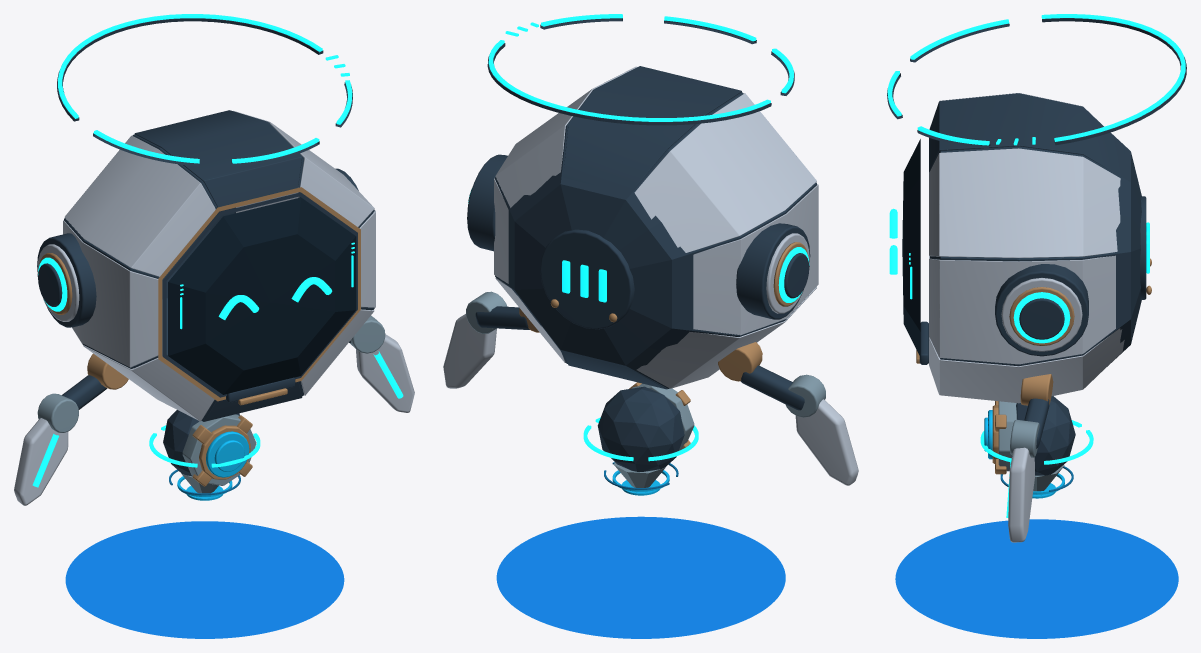
Rendered from LaboratoryAI_v7_Base.fbx.
3 renders of one model, left to right at view 1: azimuth 30°, elevation 25°; view 2: azimuth 150°, elevation 25°; view 3: azimuth 270°, elevation 25°, orthographic. The views are drawn at different scales.
Parts seen in each view (by area): view 1: Recessed octagonal faceted visor, Soft blue hover footprint, Helmet armor panel 02, Helmet armor panel 01, Helmet armor panel 03, Helmet armor panel 04, Helmet armor panel 00, Ceramic hand paddle -1, Segmented copper inner gasket, Ceramic hand paddle 1, Ear mount -1, Dark beveled screen surround (+19 smaller); view 2: Soft blue hover footprint, Octagonal midnight inner chassis, Helmet armor panel 02, Helmet armor panel 01, Helmet armor panel 03, Rear service panel, Faceted energy housing, Helmet armor panel 00, Helmet armor panel 04, Ceramic hand paddle -1, Ear mount -1, Ceramic hand paddle 1 (+15 smaller); view 3: Soft blue hover footprint, Helmet armor panel 00, Helmet armor panel 07, Helmet armor panel 01, Helmet armor panel 06, Octagonal midnight inner chassis, Recessed octagonal faceted visor, Ear mount 1, Faceted energy housing, Ceramic hand paddle 1, Ear ceramic cover 1, Asymmetric cyan halo 0 (+10 smaller).
Part boxes in pixels (x1,y1,x2,y2): Recessed octagonal faceted visor: [168, 197, 356, 394]; Soft blue hover footprint: [65, 521, 344, 638]; Helmet armor panel 02: [64, 135, 215, 276]; Helmet armor panel 01: [134, 110, 302, 207]; Helmet armor panel 03: [63, 220, 158, 367]; Helmet armor panel 04: [72, 327, 214, 421]; Helmet armor panel 00: [233, 111, 374, 226]; Ceramic hand paddle -1: [14, 418, 68, 505]; Segmented copper inner gasket: [158, 187, 360, 401]; Ceramic hand paddle 1: [356, 334, 414, 412]; Ear mount -1: [37, 233, 96, 327]; Dark beveled screen surround: [163, 192, 357, 397]; Soft blue hover footprint: [496, 516, 785, 638]; Octagonal midnight inner chassis: [495, 72, 816, 388]; Helmet armor panel 02: [634, 93, 816, 252]; Helmet armor panel 01: [563, 66, 741, 193]; Helmet armor panel 03: [693, 184, 818, 335]; Rear service panel: [540, 229, 634, 329]; Faceted energy housing: [597, 386, 684, 471]; Helmet armor panel 00: [495, 66, 637, 207]; Helmet armor panel 04: [636, 286, 816, 388]; Ceramic hand paddle -1: [795, 399, 858, 485]; Ear mount -1: [736, 223, 810, 319]; Ceramic hand paddle 1: [443, 314, 496, 388]; Soft blue hover footprint: [895, 519, 1178, 638]; Helmet armor panel 00: [929, 148, 1120, 257]; Helmet armor panel 07: [929, 255, 1115, 364]; Helmet armor panel 01: [929, 93, 1125, 177]; Helmet armor panel 06: [929, 328, 1124, 403]; Octagonal midnight inner chassis: [930, 122, 1141, 366]; Recessed octagonal faceted visor: [902, 139, 920, 357]; Ear mount 1: [995, 264, 1088, 356]; Faceted energy housing: [1016, 396, 1075, 475]; Ceramic hand paddle 1: [1008, 447, 1034, 542]; Ear ceramic cover 1: [1001, 278, 1082, 351]; Asymmetric cyan halo 0: [1041, 14, 1185, 141].
Size of what is drawn, in the model's own units: 70.56 by 86.09 by 45.5.
